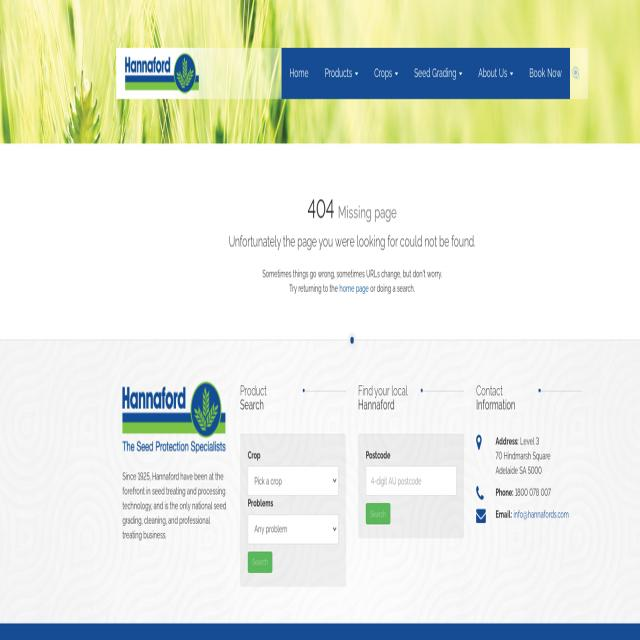button: (122, 382, 225, 453), (122, 48, 203, 91), (406, 48, 470, 98), (470, 48, 521, 98), (316, 48, 366, 98), (521, 48, 570, 98), (366, 48, 406, 98), (282, 48, 316, 98), (366, 504, 390, 524), (248, 552, 272, 572)
field: (248, 466, 338, 496), (366, 466, 456, 496), (248, 514, 338, 544)
